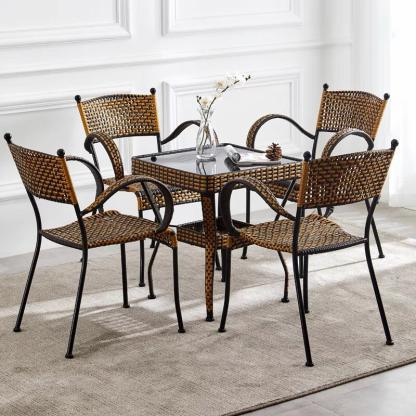table: (128, 140, 322, 324)
